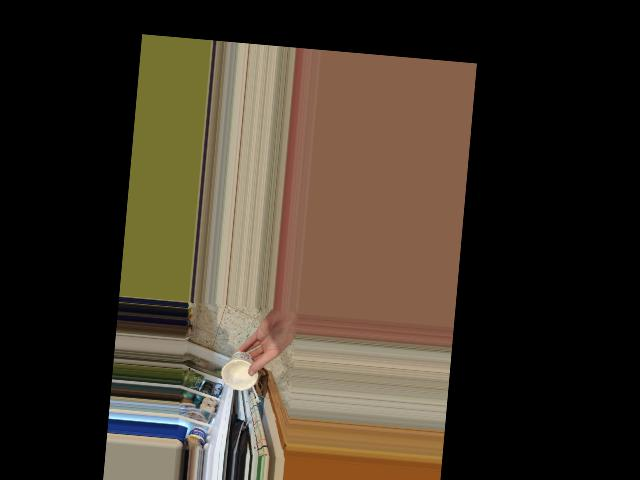cotage: (225, 347, 262, 391)
